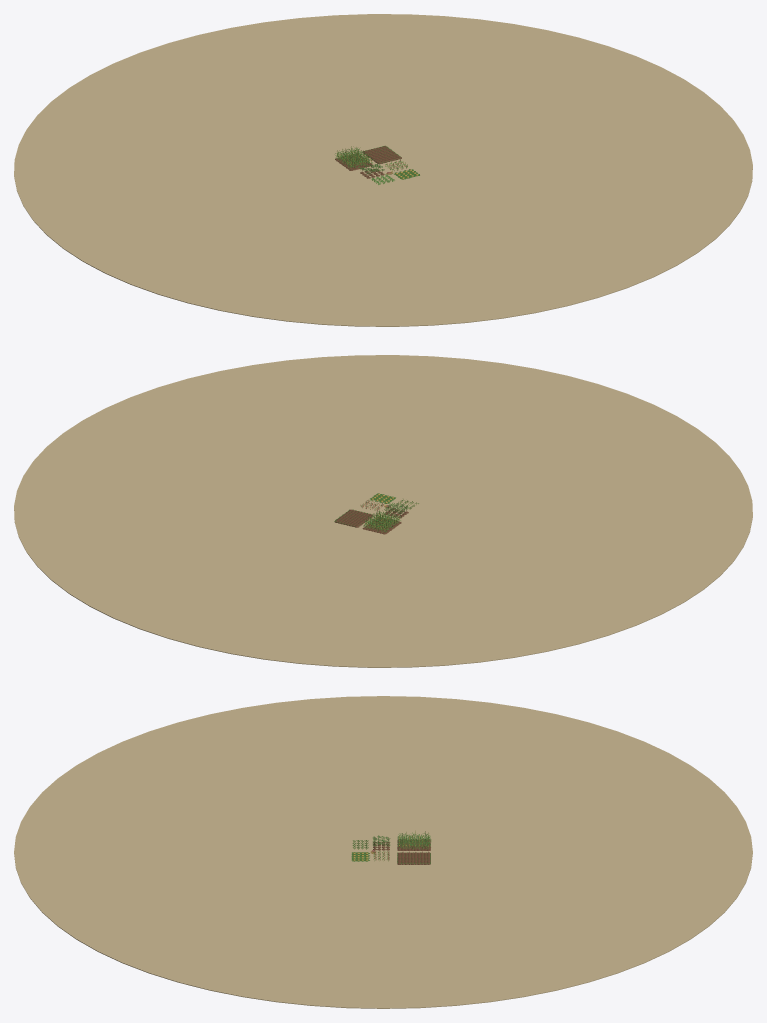
Rendered from field.glb.
3 renders of one model, top to bottom at view 1: azimuth 30°, elevation 25°; view 2: azimuth 150°, elevation 25°; view 3: azimuth 270°, elevation 25°, orthographic.
Parts seen in each view (by area): view 1: ENV_ground; view 2: ENV_ground, INT_maize; view 3: ENV_ground.
Part boxes in pixels (x1,y1,x2,y2): ENV_ground: [14, 14, 752, 326]; ENV_ground: [14, 355, 752, 667]; INT_maize: [363, 509, 400, 532]; ENV_ground: [14, 696, 752, 1008].
Size of the model in its own units: 160 by 2.62 by 160.
